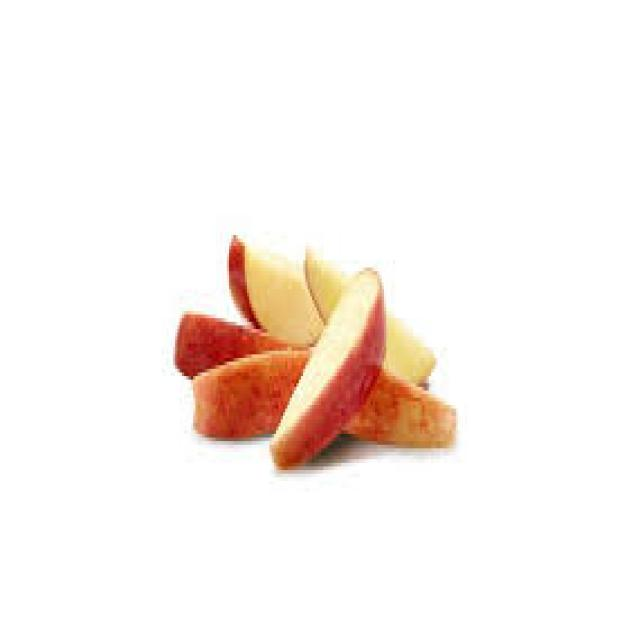Apple: (275, 271, 385, 452), (184, 349, 285, 446), (223, 234, 314, 334), (370, 374, 464, 453), (164, 310, 285, 358)
